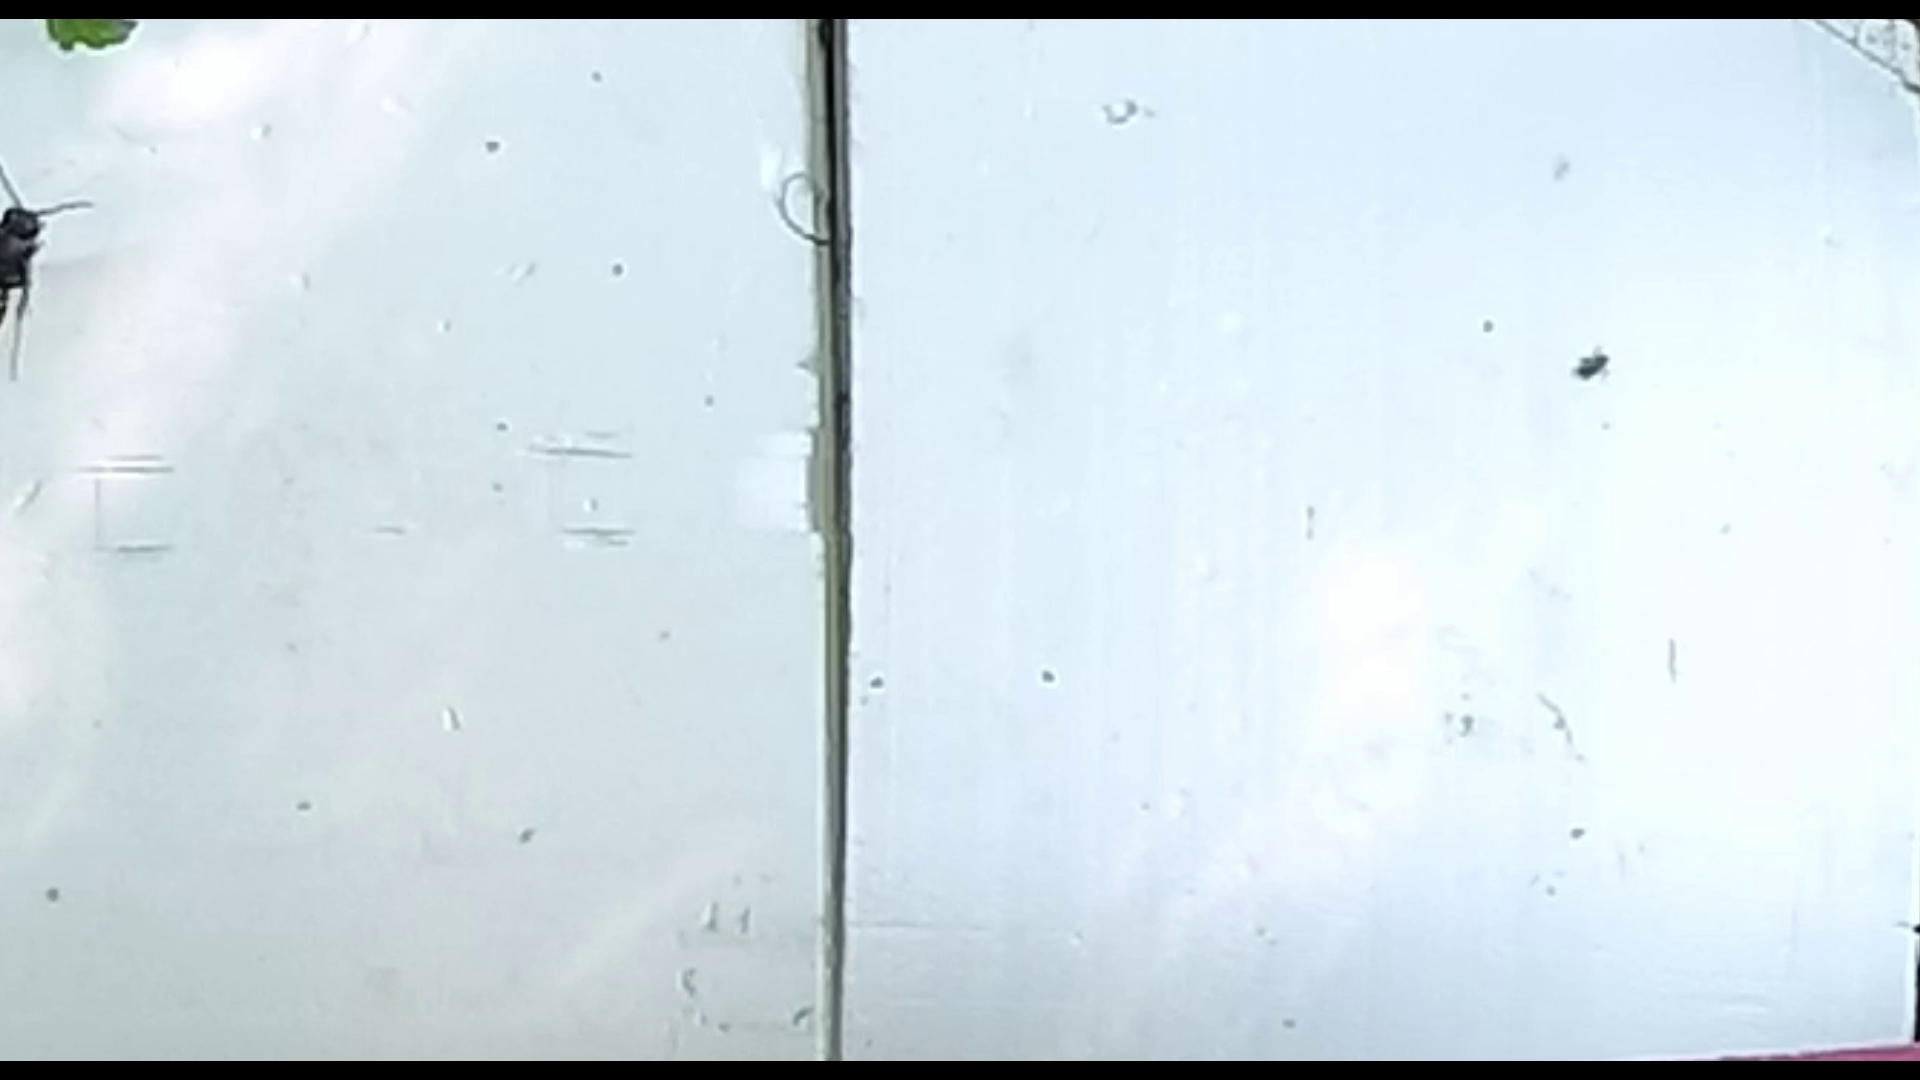Asian_hornets: (0, 158, 112, 390)
